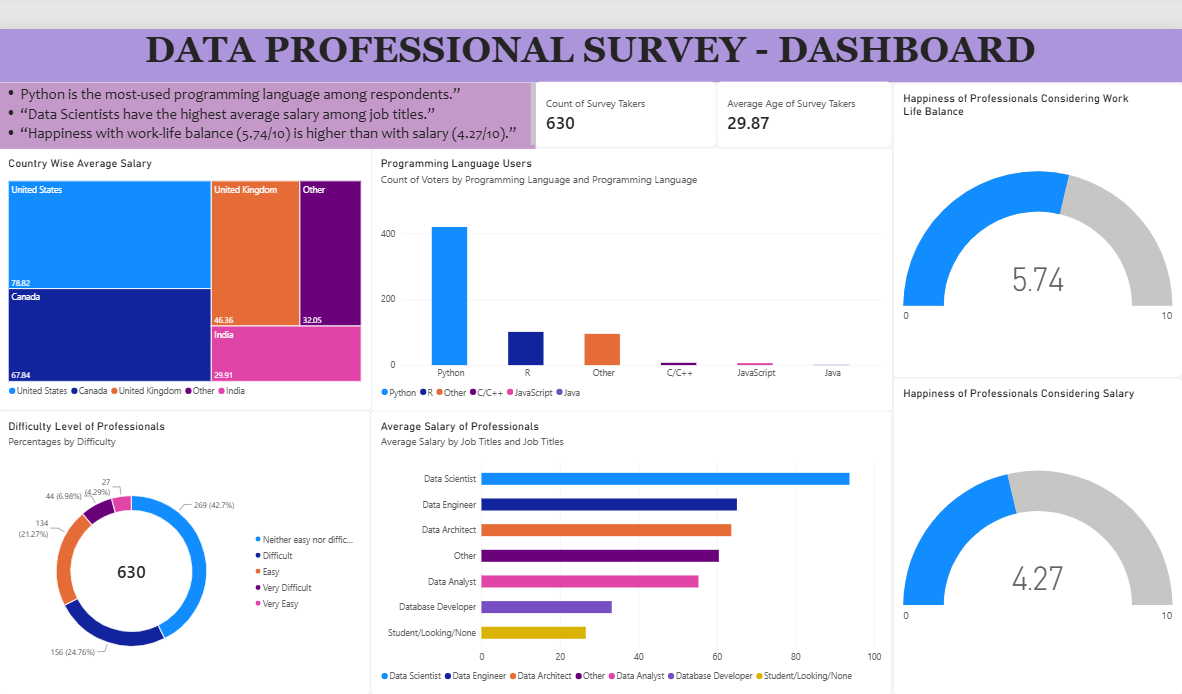

The dashboard page shown, as its layout file describes it:
{"tool":"powerbi","page":{"name":"Page 1","canvas":[1920,1080],"ordinal":0},"visuals":[{"type":"textbox","box":[0,0,1920,86.4],"z":0},{"type":"cardVisual","fields":{"Data":["Count(Data Professional Survey.Unique ID)"]},"box":[871.1,85.1,293.7,107.4],"z":1000},{"type":"cardVisual","fields":{"Data":["Avg(Data Professional Survey.Q10 - Current Age)"]},"box":[1164.8,85.1,283.6,107.4],"z":2000},{"type":"barChart","title":"Average Salary of Professionals","fields":{"Category":["Data Professional Survey.Q1 - Which Title Best Fits your Current Role?.1"],"Series":["Data Professional Survey.Q1 - Which Title Best Fits your Current Role?.1"],"Y":["Avg(Data Professional Survey.Average Salary)"]},"box":[604.3,617.1,845,462.5],"z":3000},{"type":"columnChart","title":"Programming Language Users","fields":{"Category":["Data Professional Survey.Q5 - Favorite Programming Language.1"],"Series":["Data Professional Survey.Q5 - Favorite Programming Language.1"],"Y":["CountNonNull(Data Professional Survey.Unique ID)"]},"box":[603.7,192.4,846.8,427.4],"z":4000},{"type":"treemap","title":"Country Wise Average Salary","fields":{"Group":["Data Professional Survey.Q11 - Which Country do you live in?.1"],"Values":["Avg(Data Professional Survey.Average Salary)"]},"box":[0,192.4,605.7,425.4],"z":5000},{"type":"gauge","title":"Happiness of Professionals Considering Work Life Balance","fields":{"MaxValue":["Max(Data Professional Survey.Q6 - How Happy are you in your Current Position with the following? (Work/Life Balance))"],"MinValue":["Min(Data Professional Survey.Q6 - How Happy are you in your Current Position with the following? (Work/Life Balance))"],"Y":["Avg(Data Professional Survey.Q6 - How Happy are you in your Current Position with the following? (Work/Life Balance))"]},"box":[1450.4,87.1,470,478.1],"z":6000},{"type":"gauge","title":"Happiness of Professionals Considering Salary","fields":{"MaxValue":["Max(Data Professional Survey.Q6 - How Happy are you in your Current Position with the following? (Salary))"],"MinValue":["Min(Data Professional Survey.Q6 - How Happy are you in your Current Position with the following? (Salary))"],"Y":["Avg(Data Professional Survey.Q6 - How Happy are you in your Current Position with the following? (Salary))"]},"box":[1450.4,565.2,470,514.5],"z":7000},{"type":"donutChart","title":"Difficulty Level of Professionals","fields":{"Category":["Data Professional Survey.Q7 - How difficult was it for you to break into Data?"],"Y":["CountNonNull(Data Professional Survey.Q7 - How difficult was it for you to break into Data?)"]},"box":[0,618.8,603.8,461.2],"z":8000},{"type":"textbox","box":[0,87.1,871.1,107.4],"z":8001}]}

Visuals, with their boxes on the page's 1920x1080 design canvas (x1, y1, x2, y2). These are canvas units, not pixel positions in the 1182x694 screenshot, which may show the page scaled, cropped or inside an application window:
textbox: (0,0,1920,86)
cardVisual - Count(Data Professional Survey.Unique ID): (871,85,1165,192)
cardVisual - Avg(Data Professional Survey.Q10 - Current Age): (1165,85,1448,192)
"Average Salary of Professionals" barChart: (604,617,1449,1080)
"Programming Language Users" columnChart: (604,192,1450,620)
"Country Wise Average Salary" treemap: (0,192,606,618)
"Happiness of Professionals Considering Work Life Balance" gauge: (1450,87,1920,565)
"Happiness of Professionals Considering Salary" gauge: (1450,565,1920,1080)
"Difficulty Level of Professionals" donutChart: (0,619,604,1080)
textbox: (0,87,871,194)
